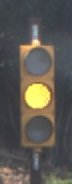Yellow: (11, 29, 54, 167)
